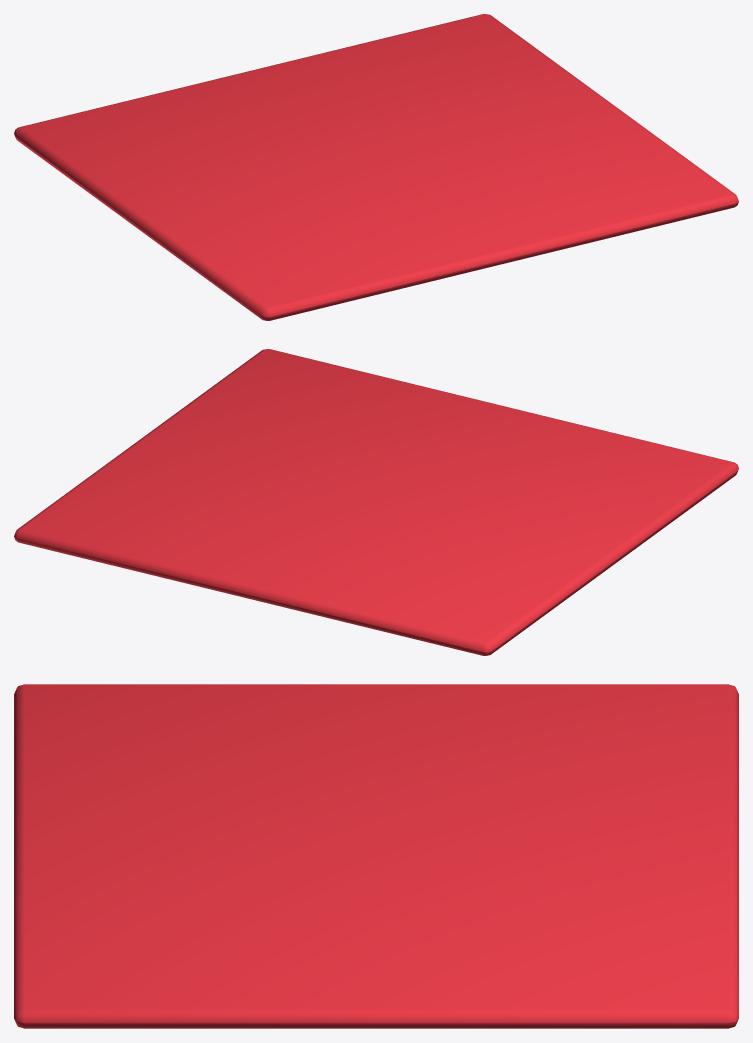
Rendered from GEO_GT3_SUPERCAR_Roof.glb.
3 views of the same model, one above another, from view 1: azimuth 30°, elevation 25°; view 2: azimuth 150°, elevation 25°; view 3: azimuth 270°, elevation 25° (orthographic). The views are drawn at different scales.
Parts seen in each view (by area): view 1: GEO_GT3_SUPERCAR_Roof; view 2: GEO_GT3_SUPERCAR_Roof; view 3: GEO_GT3_SUPERCAR_Roof.
Boxes of the visible parts, box(x1,y1,x2,y2) form: GEO_GT3_SUPERCAR_Roof: box(14, 14, 738, 320); GEO_GT3_SUPERCAR_Roof: box(14, 349, 738, 655); GEO_GT3_SUPERCAR_Roof: box(14, 684, 738, 1028).
Bounding box in the file's own units: 1.47 × 0.04 × 1.35.
